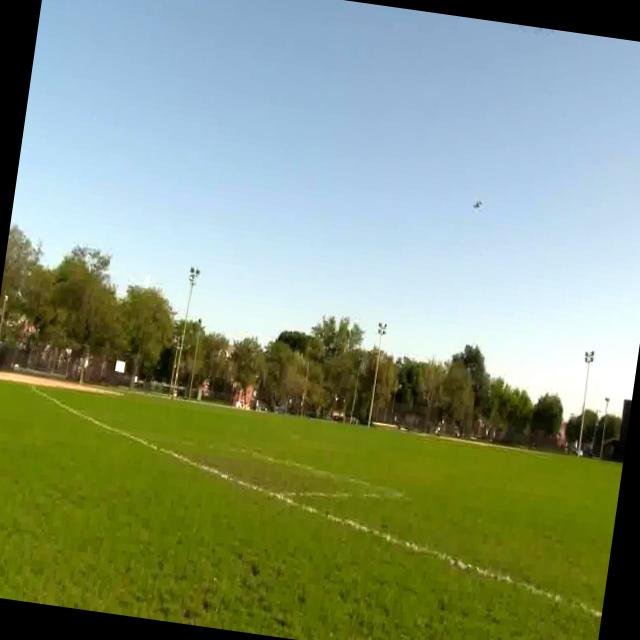drone: (467, 193, 484, 214)
